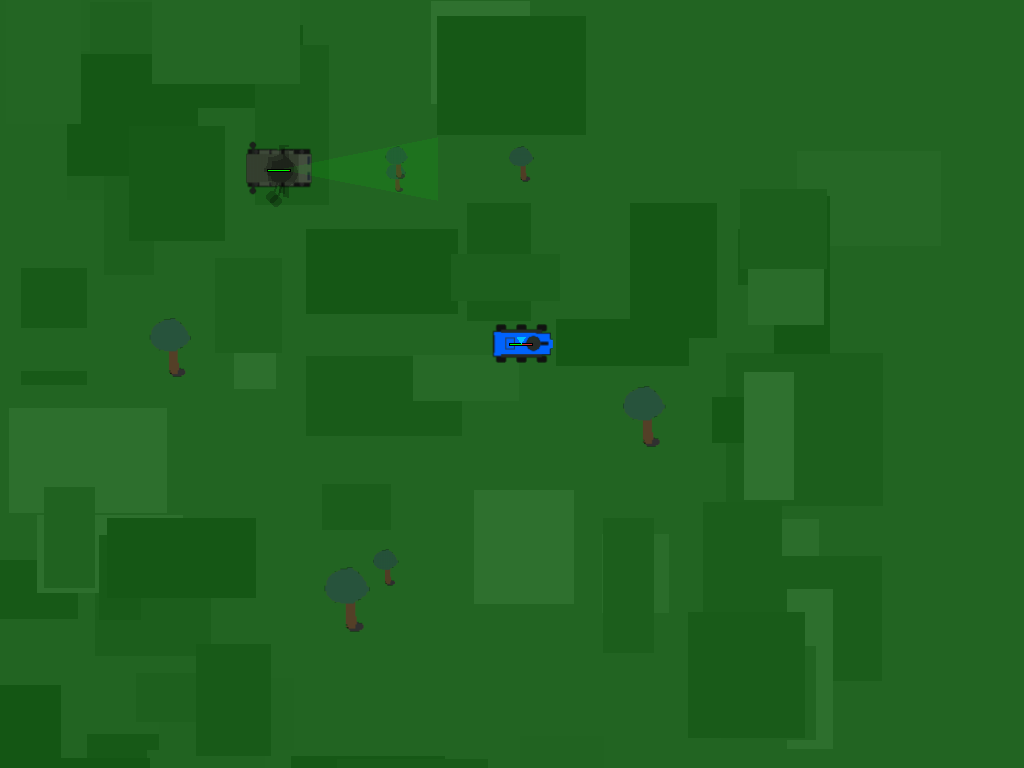APC_usa: (494, 316, 546, 368)
RadarBuilding: (241, 130, 317, 206)
